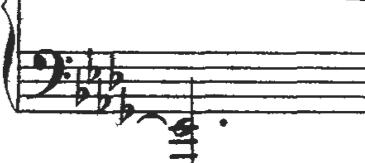bass_clef: (26, 41, 75, 105)
flat: (104, 44, 131, 95), (80, 38, 103, 88), (118, 85, 138, 130), (95, 75, 114, 120), (73, 66, 91, 111)
